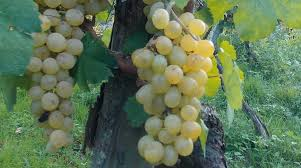Green grapes: (29, 8, 80, 145), (153, 28, 198, 164)
